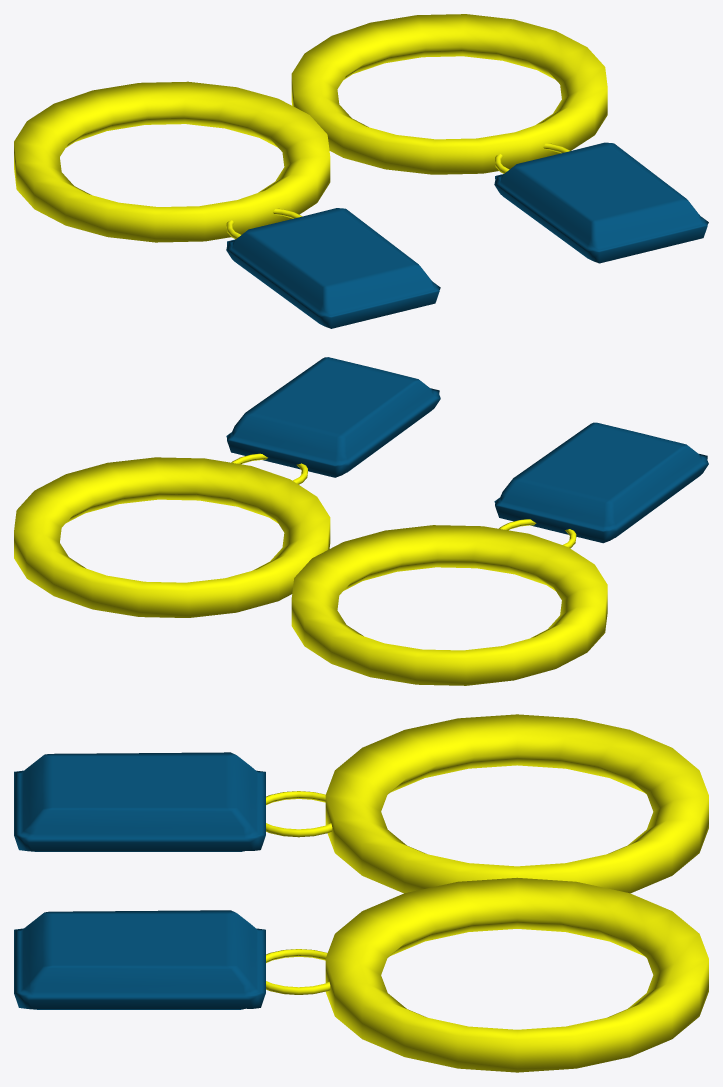
File: MSH_Aretes.obj
3 views of the same model, one above another, from view 1: azimuth 30°, elevation 25°; view 2: azimuth 150°, elevation 25°; view 3: azimuth 270°, elevation 25° (orthographic). The views are drawn at different scales.
Parts seen in each view (by area): view 1: pTorus3 MSH_Arete_R, MSH_Arete_R1 pTorus3; view 2: pTorus3 MSH_Arete_R, MSH_Arete_R1 pTorus3; view 3: MSH_Arete_R1 pTorus3, pTorus3 MSH_Arete_R.
Part boxes in pixels (bbox=[...]): pTorus3 MSH_Arete_R: bbox=[14, 81, 440, 328]; MSH_Arete_R1 pTorus3: bbox=[291, 14, 708, 263]; pTorus3 MSH_Arete_R: bbox=[291, 422, 708, 685]; MSH_Arete_R1 pTorus3: bbox=[14, 357, 440, 617]; MSH_Arete_R1 pTorus3: bbox=[14, 877, 708, 1072]; pTorus3 MSH_Arete_R: bbox=[14, 714, 708, 893].
Bounding box in the file's own units: 4.8 × 0.364 × 4.33.
